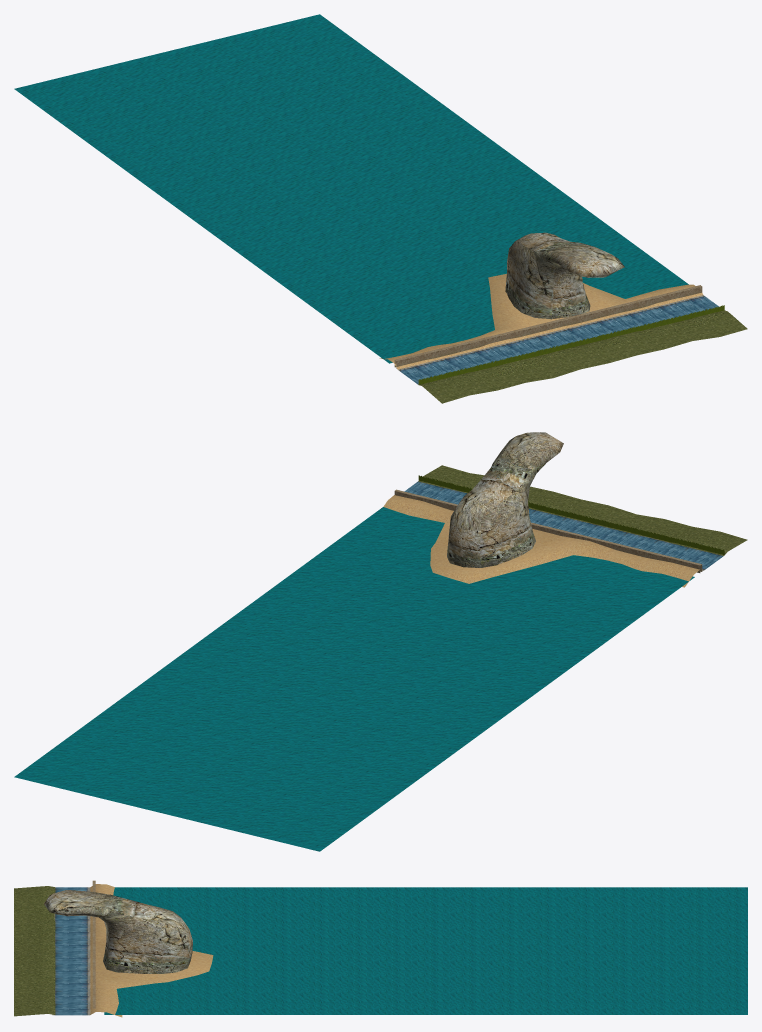
The model's file is terr_seaward_rock.FBX.
3 renders of one model, top to bottom at view 1: azimuth 30°, elevation 25°; view 2: azimuth 150°, elevation 25°; view 3: azimuth 270°, elevation 25°, orthographic. The views are drawn at different scales.
Visible parts, largest first — view 1: water, grass, Plane01, road, grass01, Box01; view 2: water, Plane01, grass01, grass, road, Box01; view 3: water, Plane01, grass, road, grass01, Box01.
Boxes of the visible parts, box(x1,y1,x2,y2) form: water: box(14, 14, 688, 363); grass: box(419, 310, 747, 403); Plane01: box(505, 232, 624, 319); road: box(398, 295, 719, 385); grass01: box(379, 273, 703, 369); Box01: box(394, 285, 702, 368); water: box(14, 507, 694, 851); Plane01: box(447, 432, 563, 567); grass01: box(383, 495, 699, 587); grass: box(418, 465, 747, 555); road: box(404, 481, 724, 570); Box01: box(394, 489, 702, 572); water: box(104, 887, 747, 1014); Plane01: box(44, 890, 192, 973); grass: box(14, 886, 55, 1016); road: box(52, 887, 90, 1015); grass01: box(90, 884, 213, 1017); Box01: box(92, 880, 95, 1008).
Size of the model in its own units: 200 by 51.54 by 485.
Materials: 7 (7 with a texture image).
